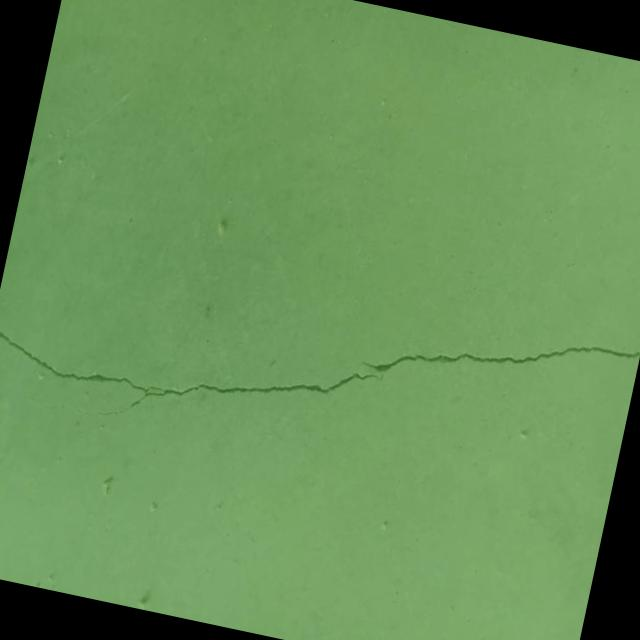crack: (0, 218, 640, 525)
